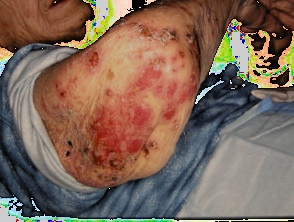SJS-TEN: (41, 0, 233, 220)
